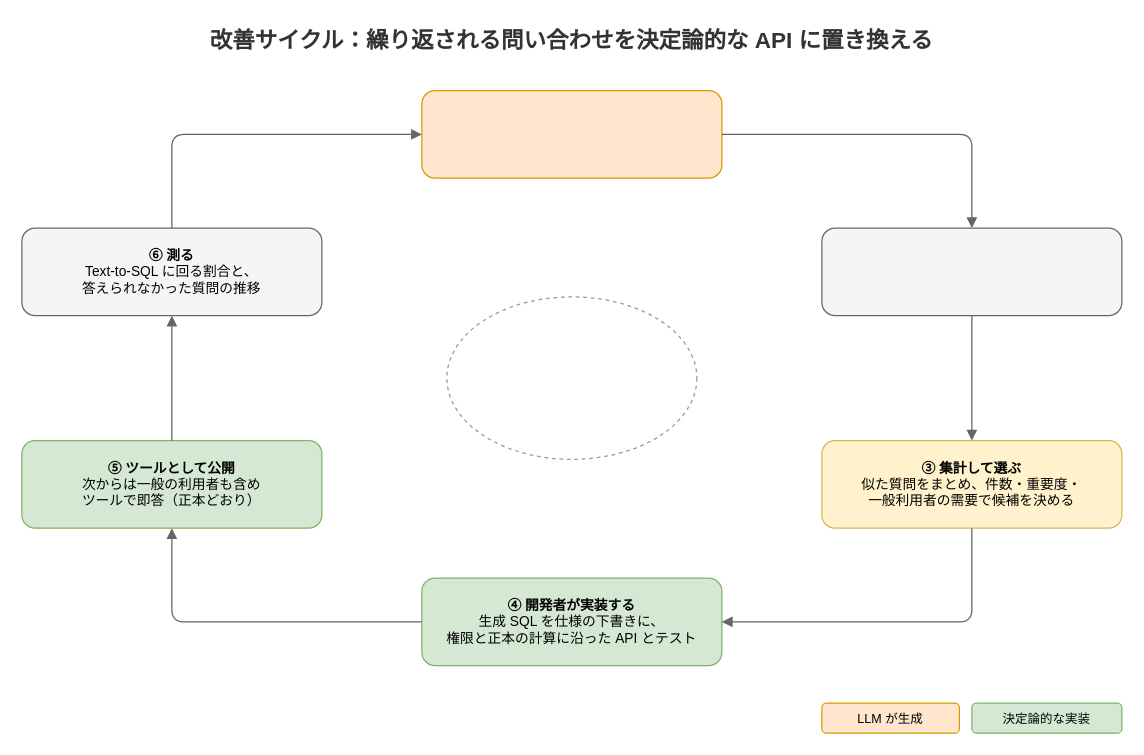
Image size: 1144x755. Some labels were removed from this diagram. Each missing label, with the box of its shape:
Text-to-SQL は 「まだ API がない 問い合わせ」の受け皿: (446, 296, 697, 459)
① 問い合わせ ツールで答えられない質問が Text-to-SQL に回る: (421, 89, 722, 178)
② 記録する 質問・役割・生成 SQL・ 実行時間・利用者の評価: (821, 227, 1122, 316)
